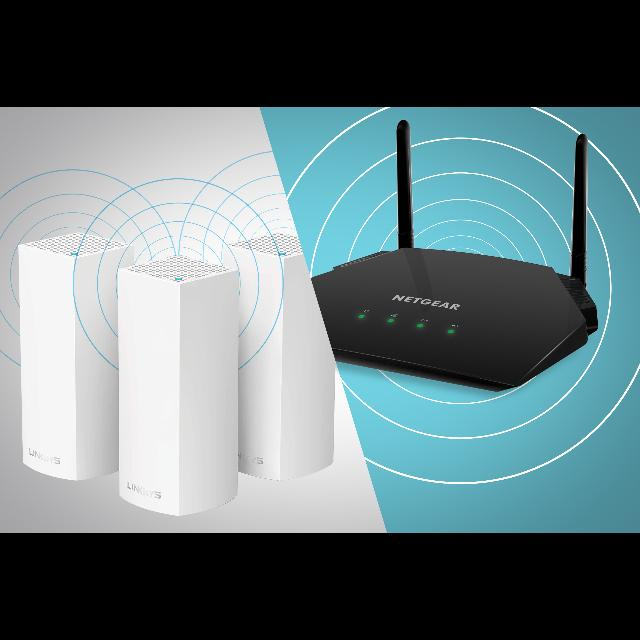Router: (312, 120, 599, 394)
